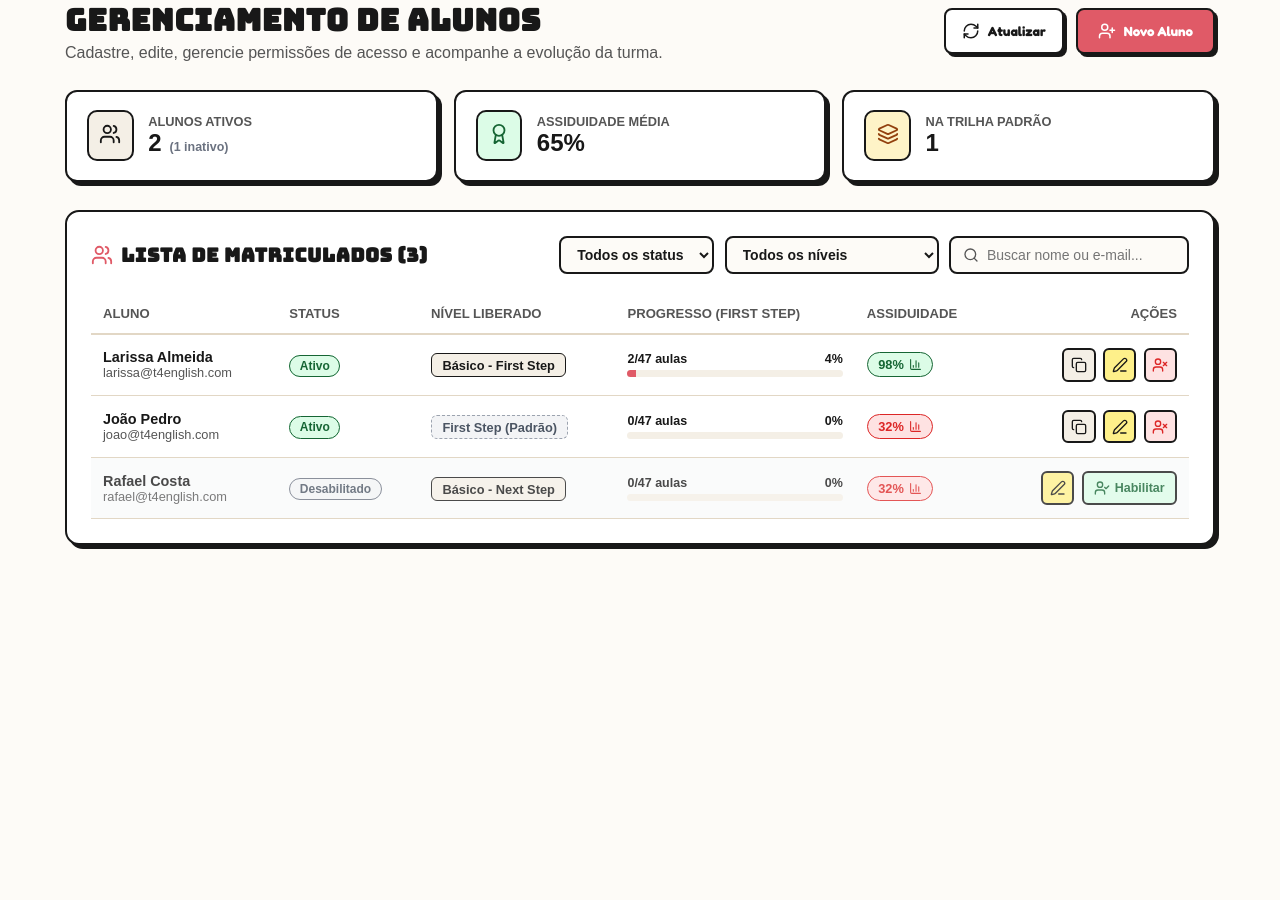
Test: Página StudentManagement (Gestão Completa e Assiduidade Automática) › UPDATE (Cadeado de Proteção): deve abrir nome, e-mail e senha bloqueados e permitir destravar para edição
The width and height of the screenshot is (1280, 900).
Expected: the text "Larissa Almeida" is shown, [103,349,213,365]
Click the button titled "Editar Aluno" in the row of "Larissa Almeida". click: (1120,365)
box: [1103,348,1136,382]
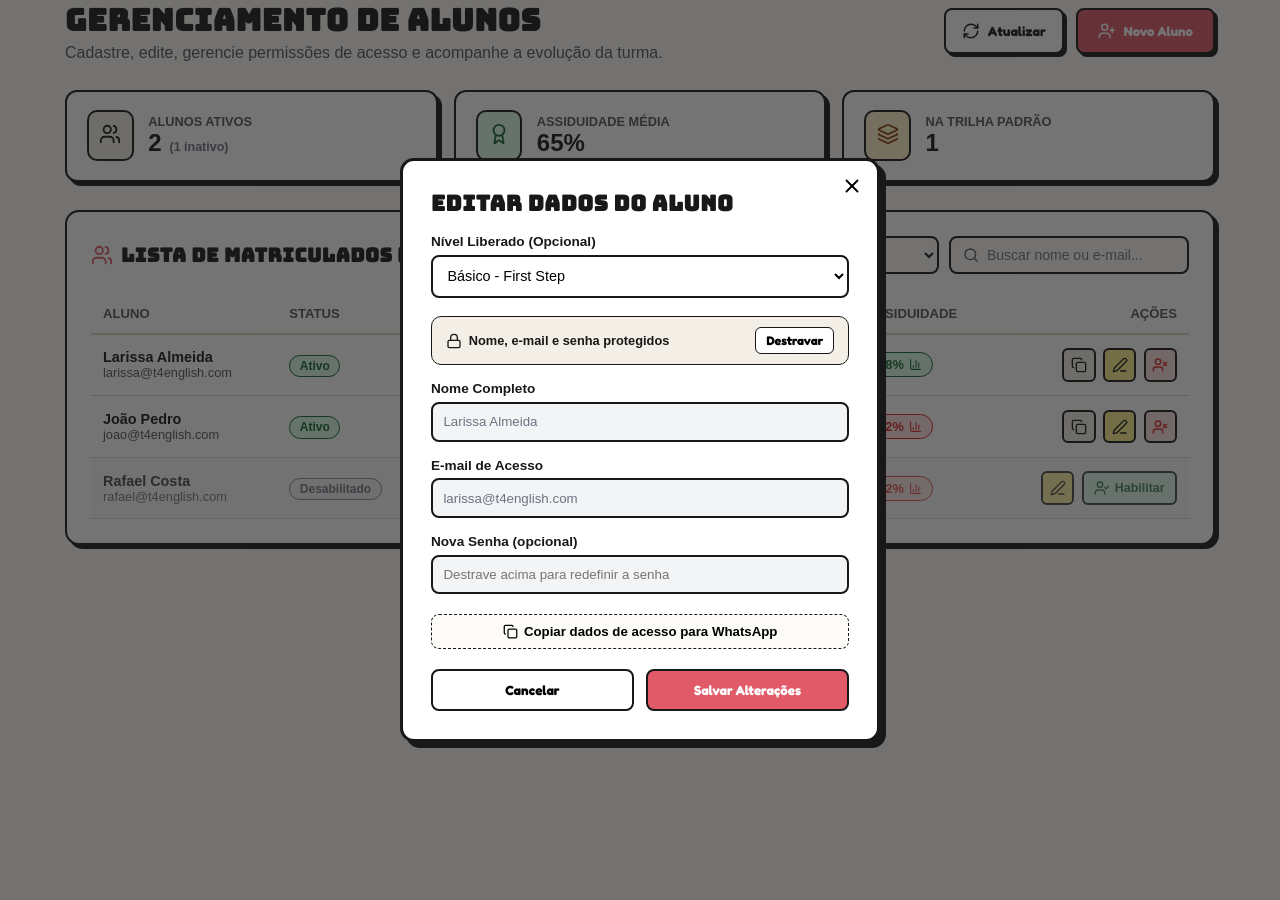
Expected: the field labelled "Nome Completo" is disabled, [431,402,849,442]
Expected: the field labelled "E-mail de Acesso" is disabled, [431,478,849,518]
Expected: the password field labelled "Nova Senha (opcional)" is disabled, [431,555,849,594]
Click the button "Destravar". click: (795,341)
box: [755,327,834,354]
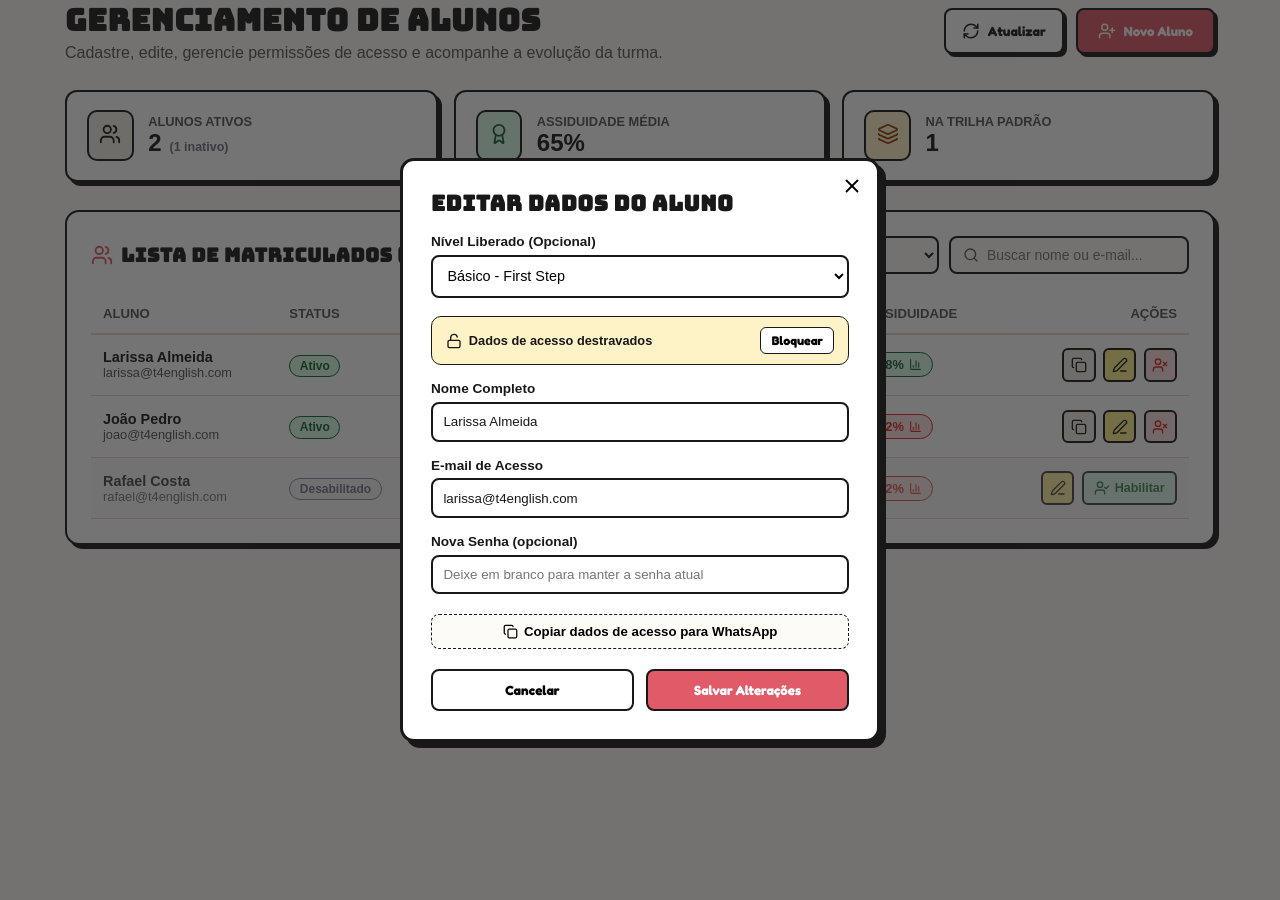
Replace the text in the field labelled "Nome Completo" with "Larissa Almeida Silva". click: (640,422)
box: [431,402,849,442]
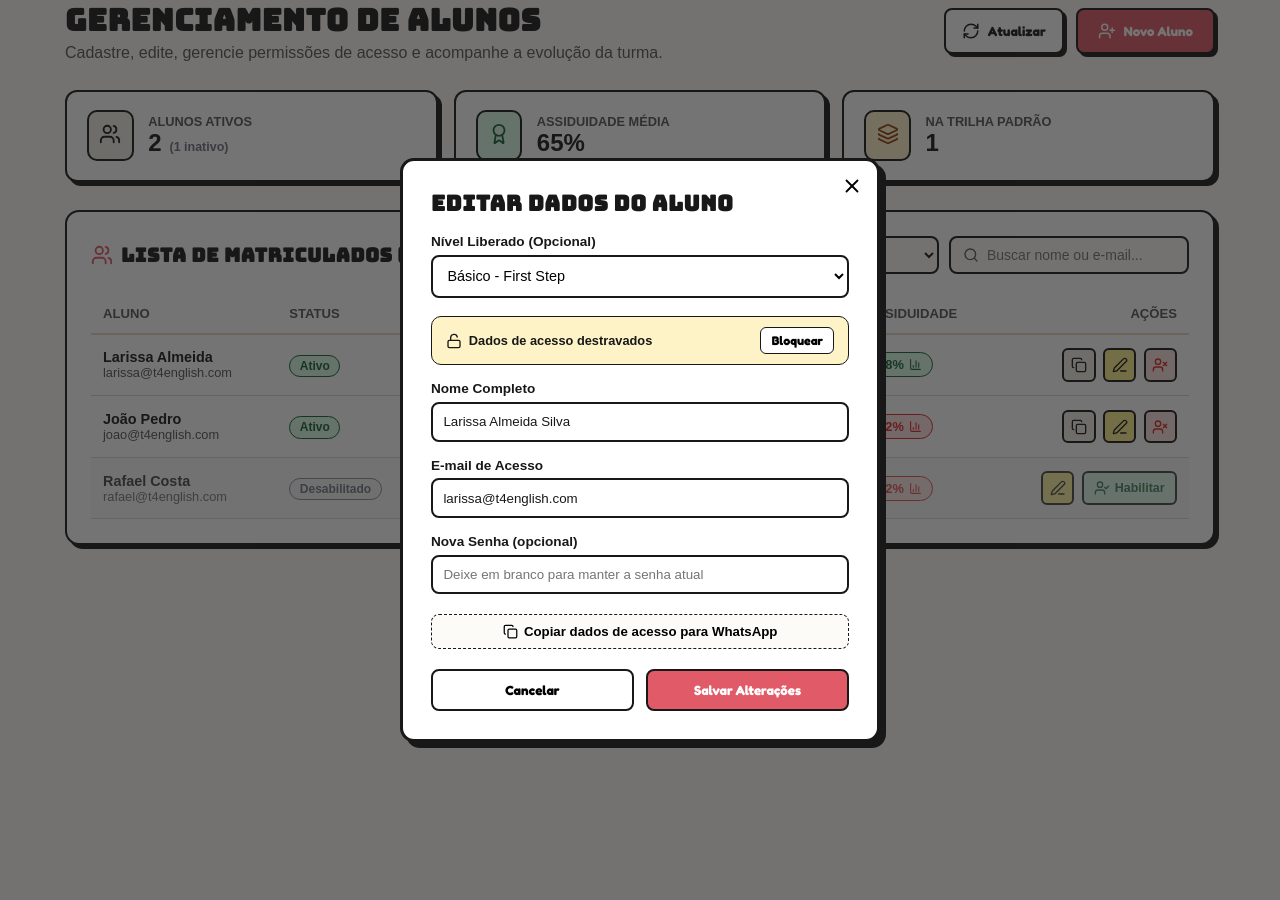
Select "Básico - Next Step" in the dropdown labelled "Nível Liberado (Opcional)". click: (640,276)
box: [431,255,849,298]
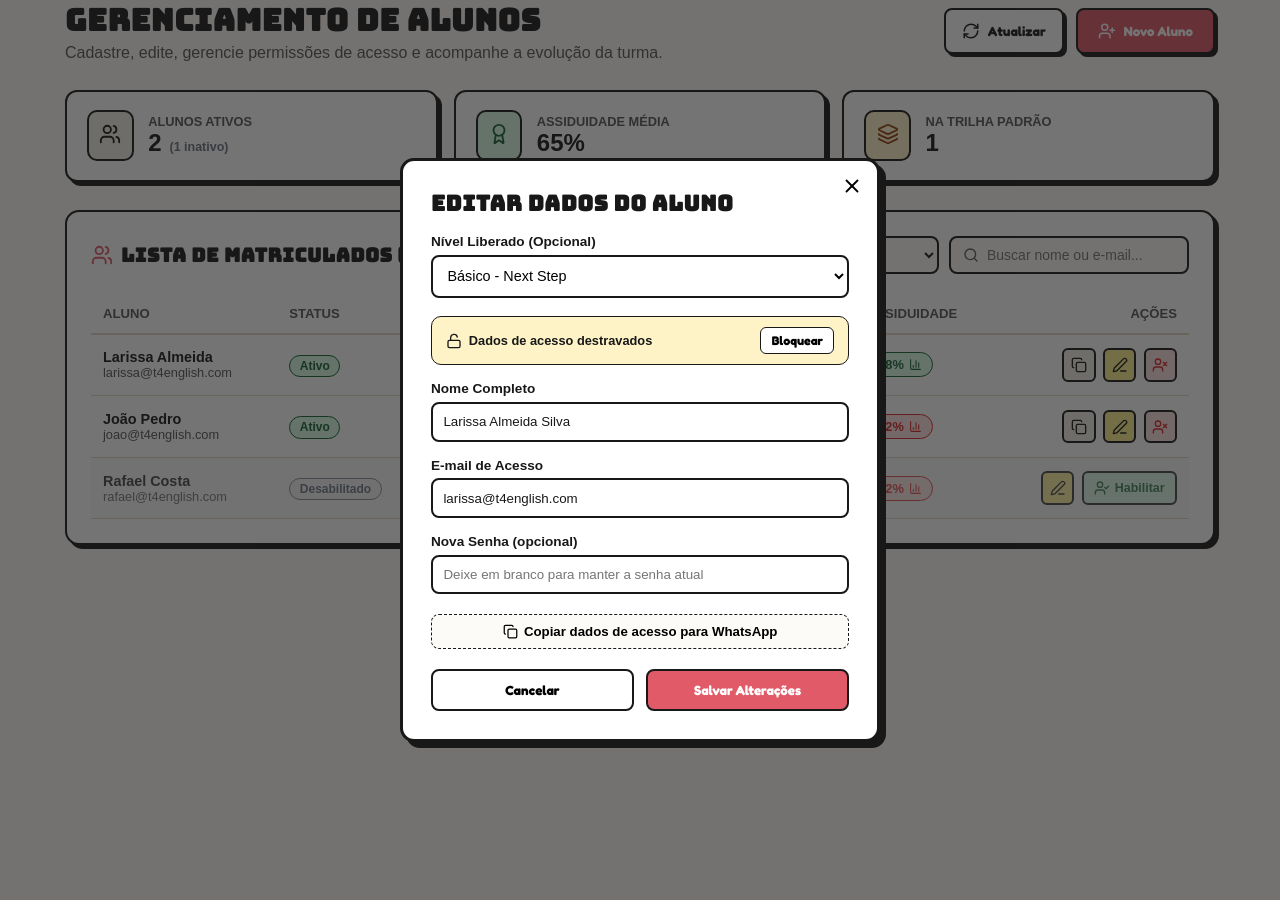
Type "NovaSenha@2026" into the password field labelled "Nova Senha (opcional)". click: (640,575)
box: [431,555,849,594]
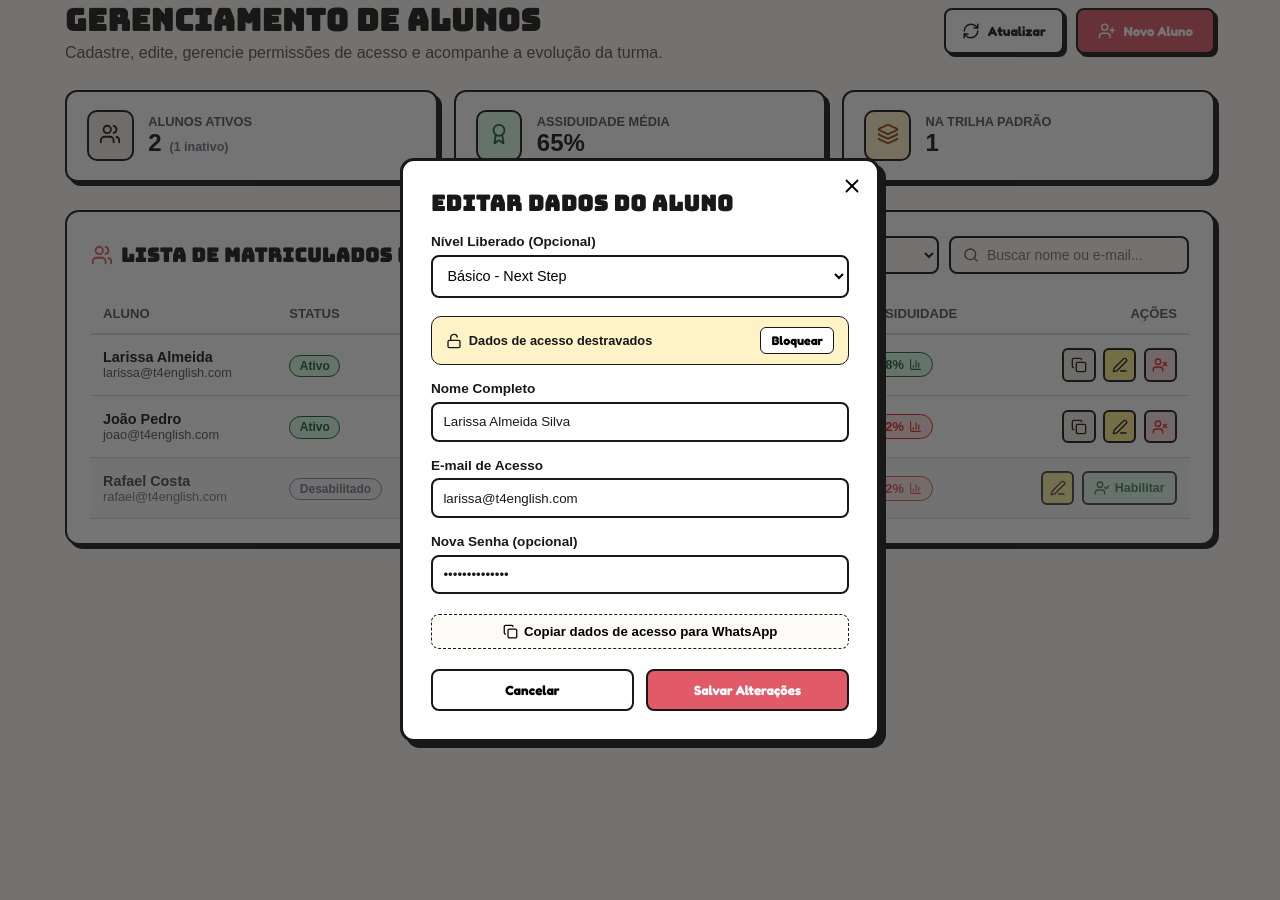
Click the button "Salvar Alterações". click: (748,690)
box: [646,669,849,711]
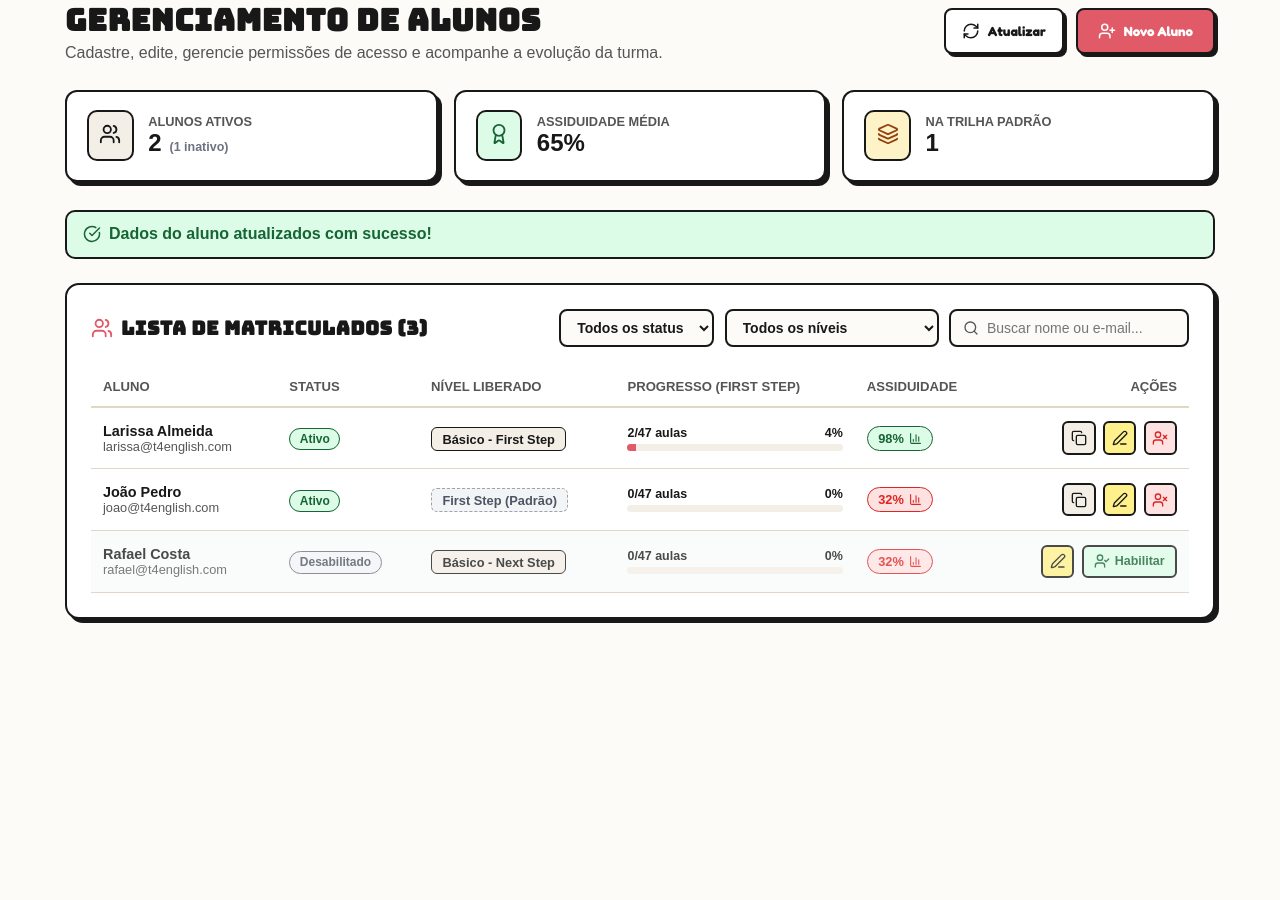
Expected: the text "Dados do aluno atualizados com sucesso!" is shown, [65,210,1215,259]
